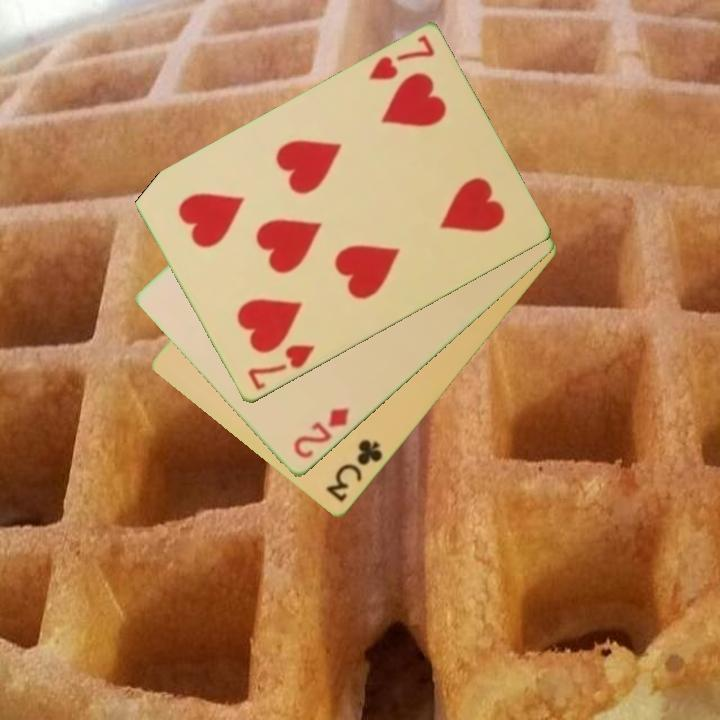2d: (290, 405, 353, 463)
3c: (322, 436, 386, 506)
7h: (244, 341, 318, 394), (365, 32, 438, 84)
